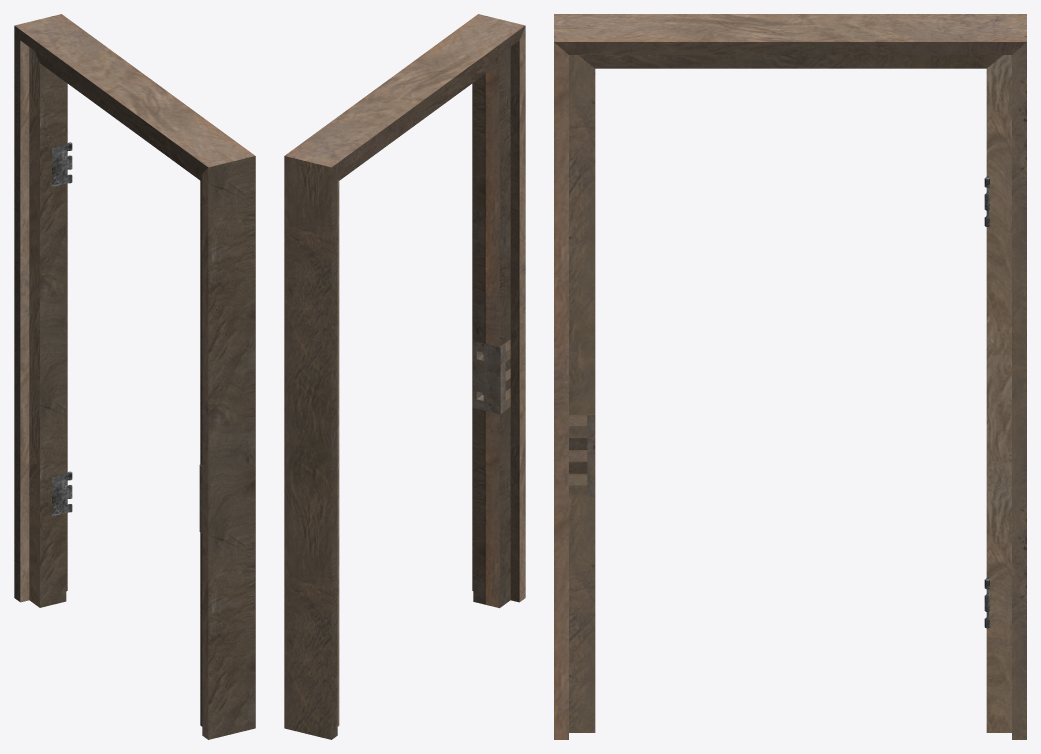
File: WoodDoorTrimA.fbx
3 views of the same model, side by side, from view 1: azimuth 30°, elevation 25°; view 2: azimuth 150°, elevation 25°; view 3: azimuth 270°, elevation 25° (orthographic). The views are drawn at different scales.
Parts seen in each view (by area): view 1: WoodDoorTrimA; view 2: WoodDoorTrimA; view 3: WoodDoorTrimA.
Part boxes in pixels (x1,y1,x2,y2): WoodDoorTrimA: [14, 14, 255, 739]; WoodDoorTrimA: [284, 14, 525, 739]; WoodDoorTrimA: [554, 14, 1026, 739].
Size of the model in its own units: 21.43 by 248 by 152.
